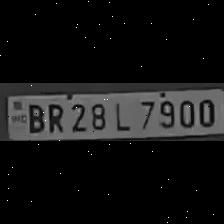0: (196, 97, 216, 127), (177, 96, 195, 128)
2: (65, 100, 87, 132)
7: (136, 97, 154, 130)
8: (87, 99, 107, 130)
9: (156, 97, 174, 128)
B: (24, 101, 44, 133)
L: (110, 99, 132, 131)
R: (44, 100, 64, 132)
